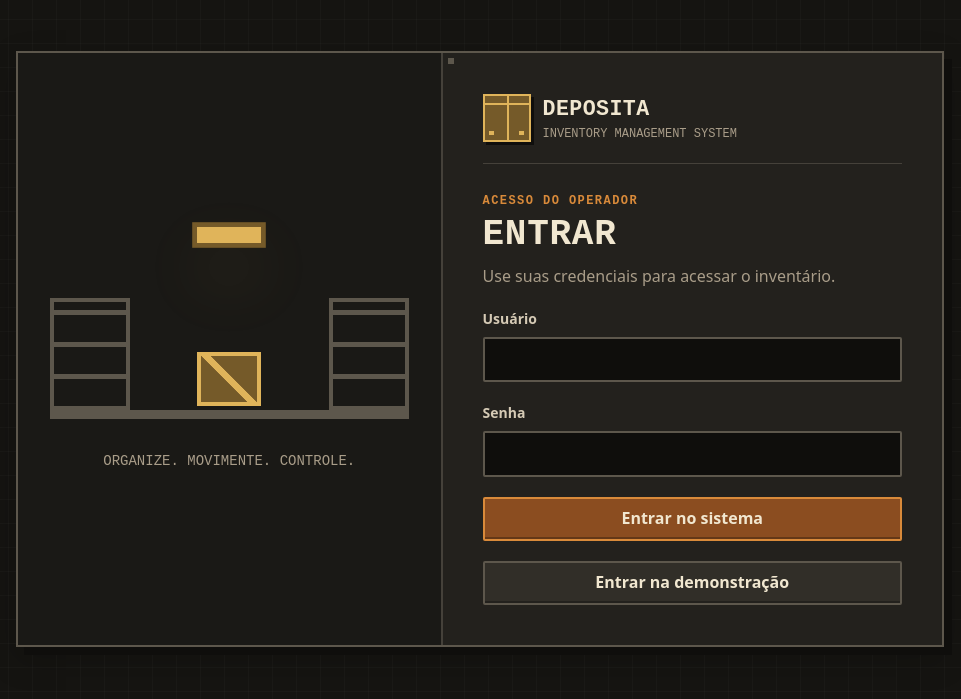
LoginPage › exibe o erro devolvido pelo login convencional
Type "operador" into the field labelled "Usuário" at (692, 360), box [482,337,902,382]
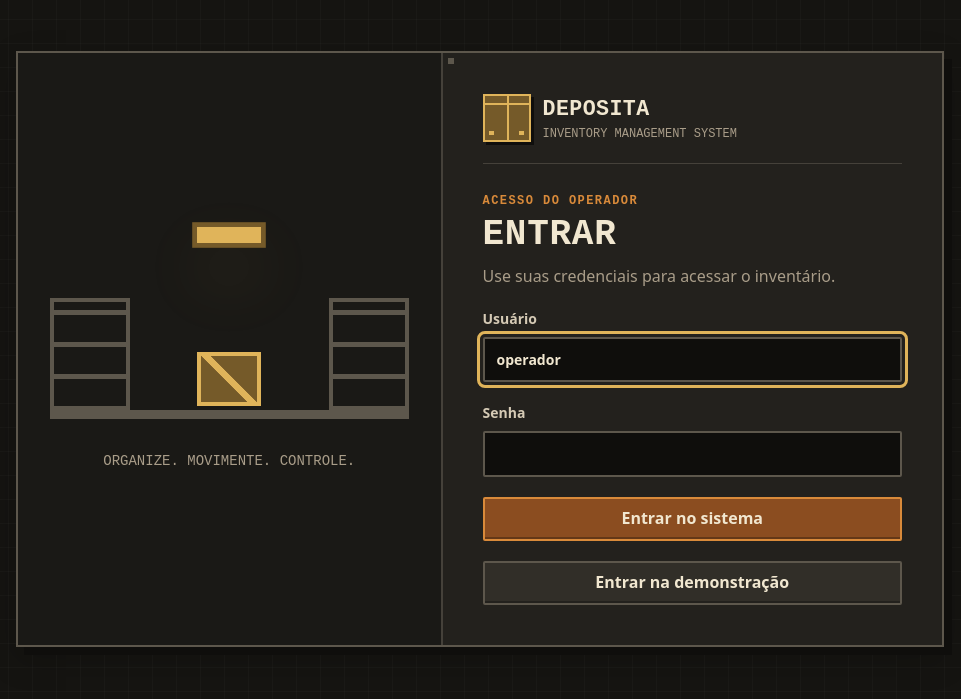
Type "incorreta" into the password field labelled "Senha" at (692, 454), box [482,431,902,477]
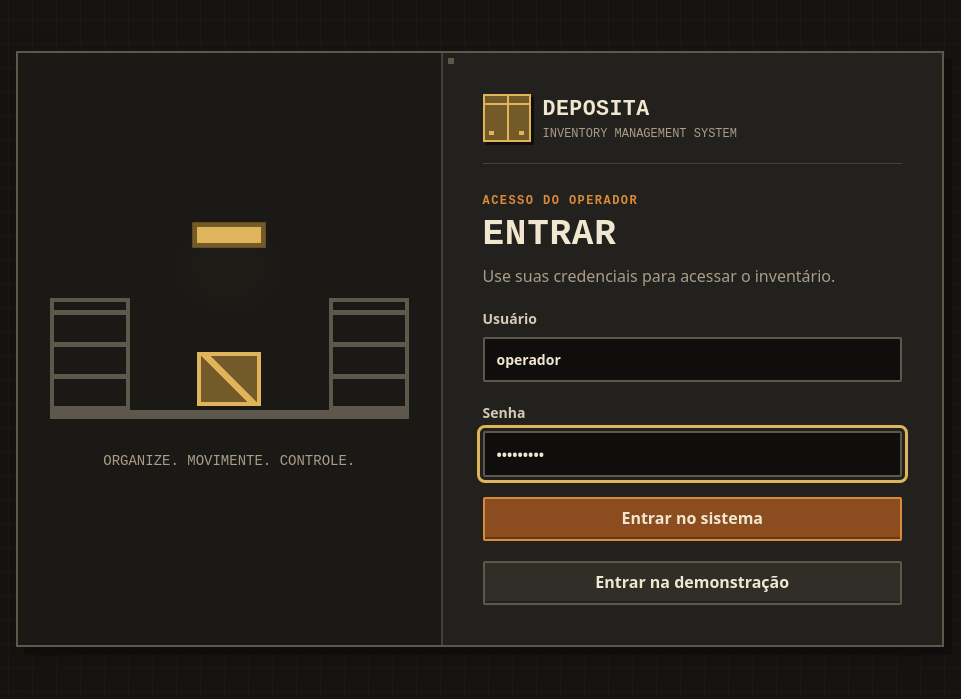
Click the button "Entrar no sistema" at (692, 519), box [482,497,902,541]
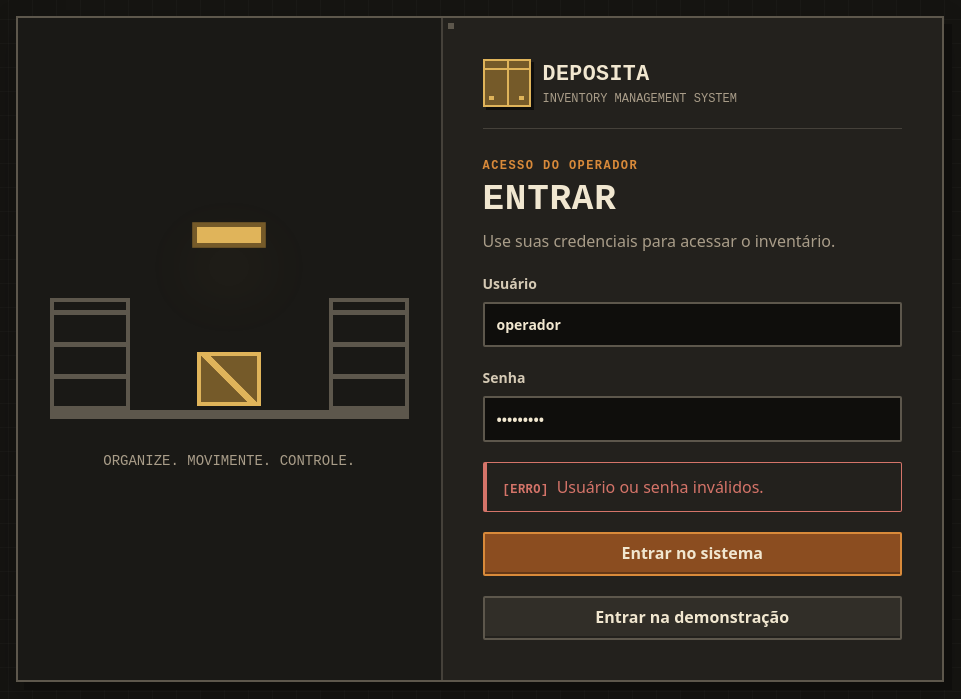
Check: the message reads "Usuário ou senha inválidos.", box [557,476,764,498]
